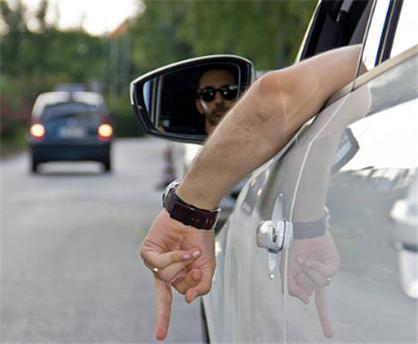insulting_gesture: (137, 215, 217, 343)
